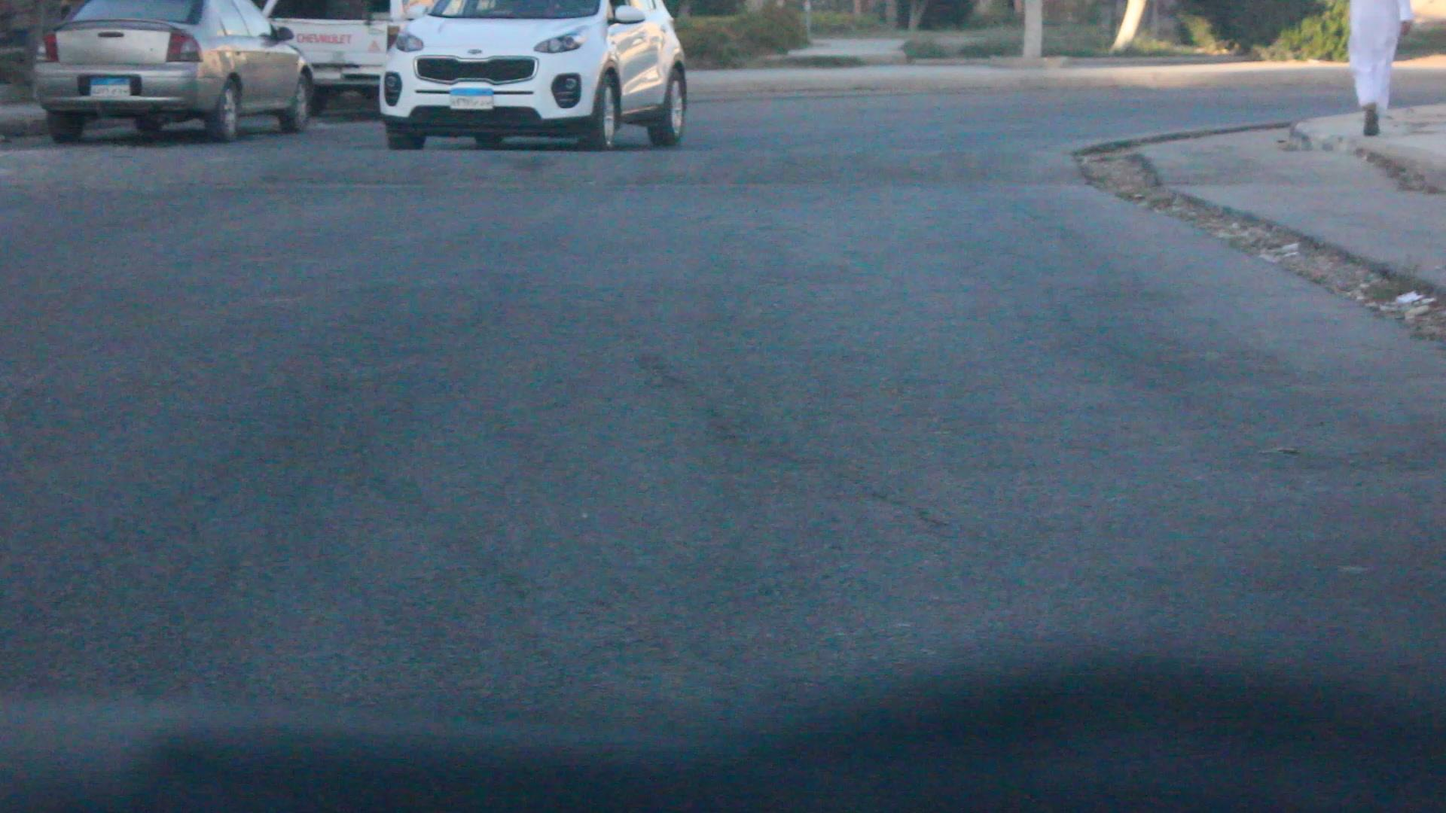Bump: (13, 139, 1096, 183)
